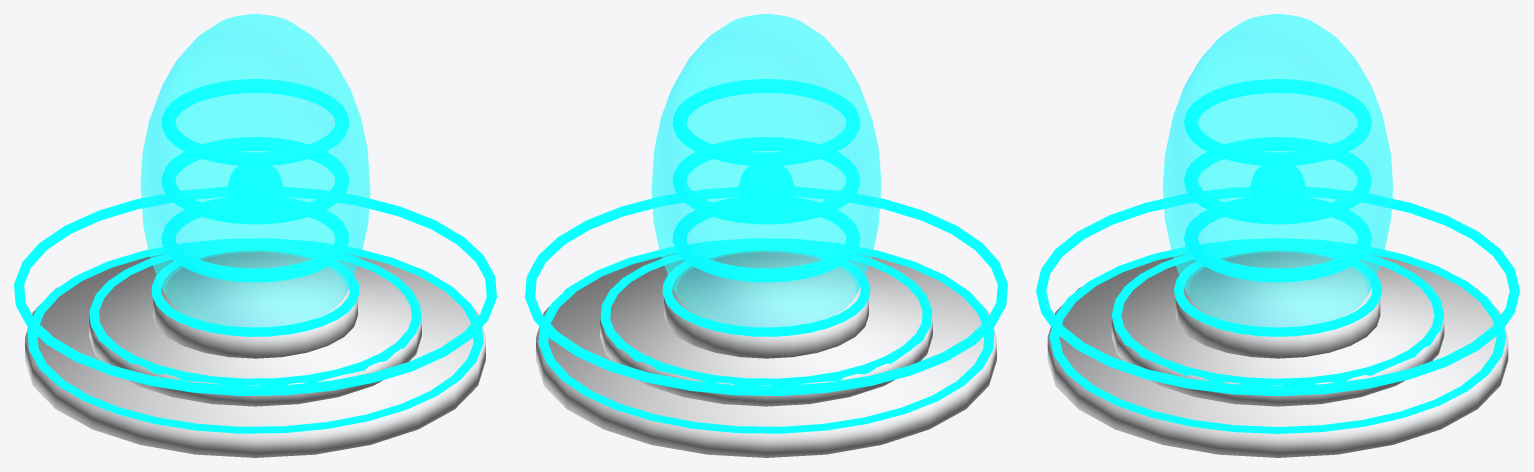
Rendered from azure_resonance_core.glb.
The picture shows the model from 3 angles, left to right: view 1: azimuth 30°, elevation 25°; view 2: azimuth 150°, elevation 25°; view 3: azimuth 270°, elevation 25°; orthographic projection.
Parts seen in each view (by area): view 1: AzureResonanceCore; view 2: AzureResonanceCore; view 3: AzureResonanceCore.
Boxes of the visible parts, x1,y1,x2,y2 form: AzureResonanceCore: (14,14,496,457); AzureResonanceCore: (525,14,1007,457); AzureResonanceCore: (1036,14,1519,457).
Size of the model in its own units: 3.78 by 2.93 by 3.78.
